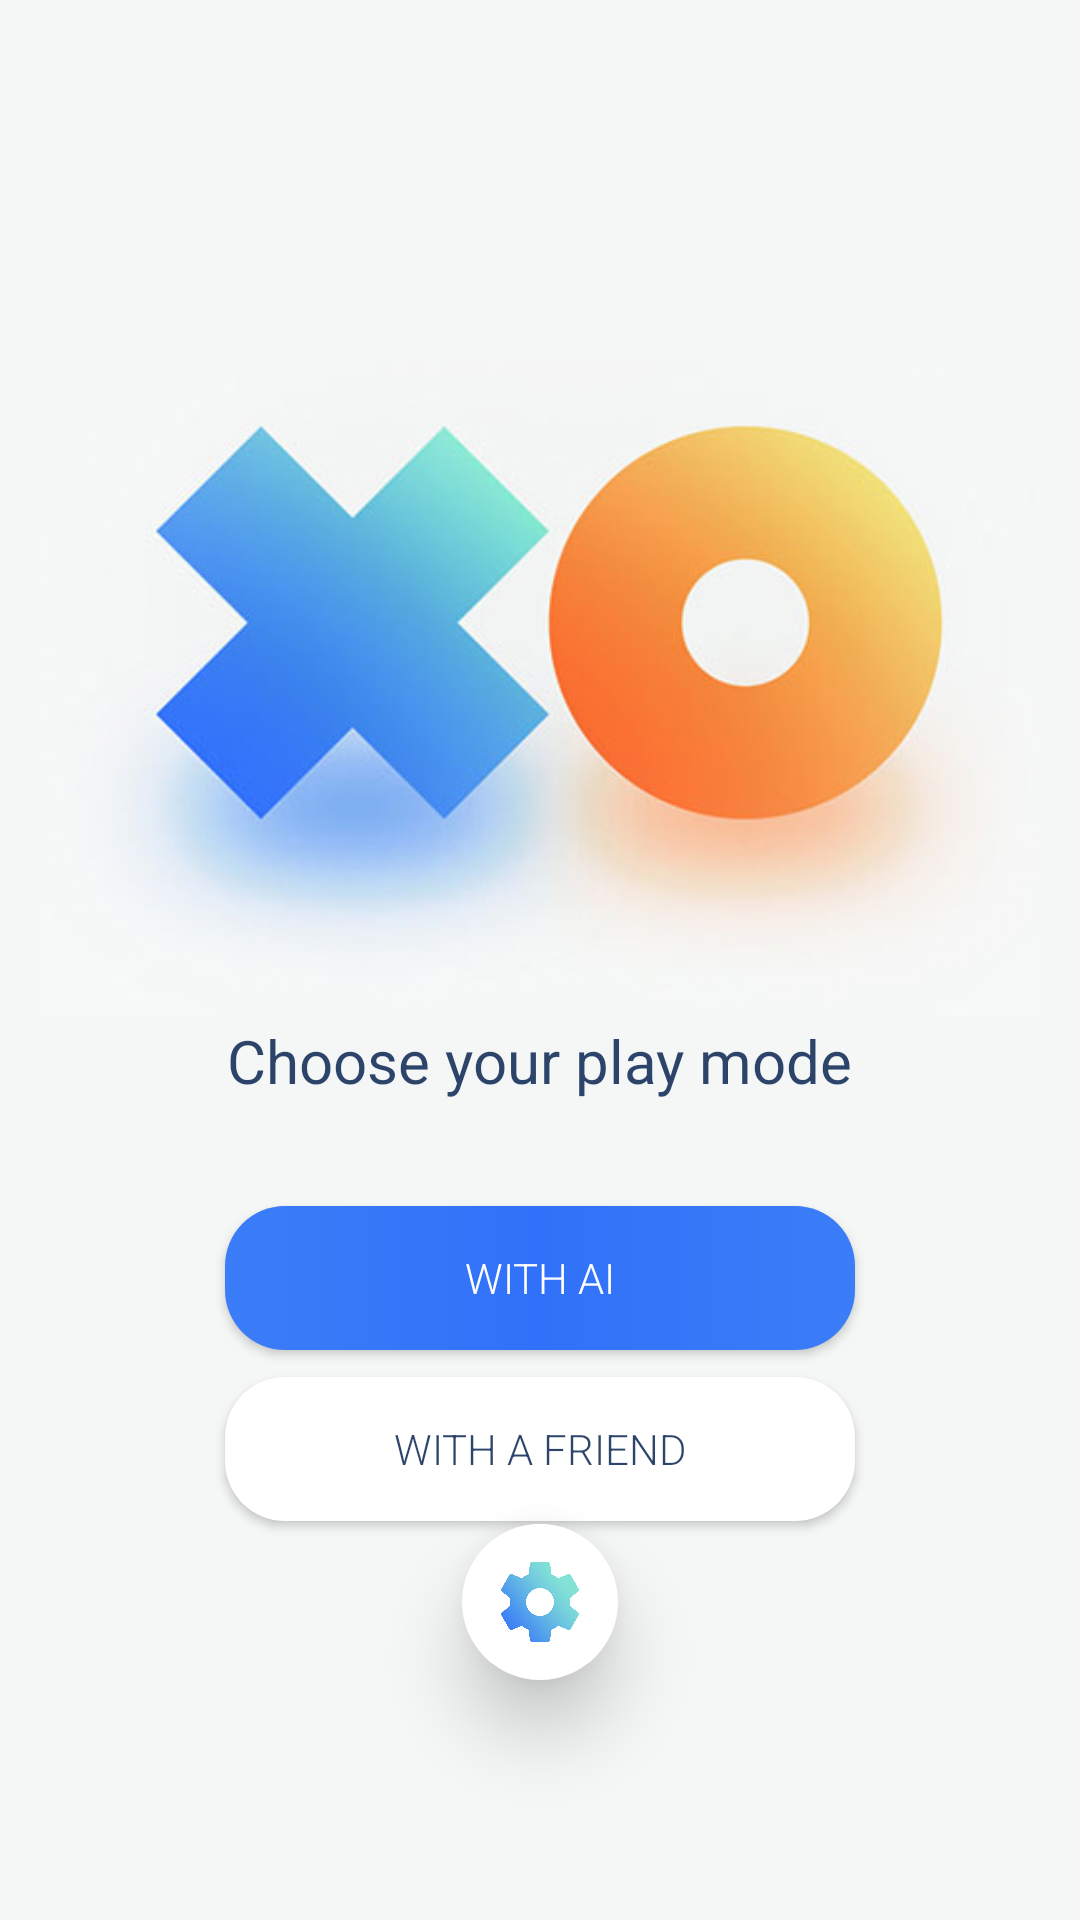

Icon bounding boxes for this 1080x1920 phone screenshot, format (x1, y1, x2, y2):
set: (462, 1524, 618, 1680)
